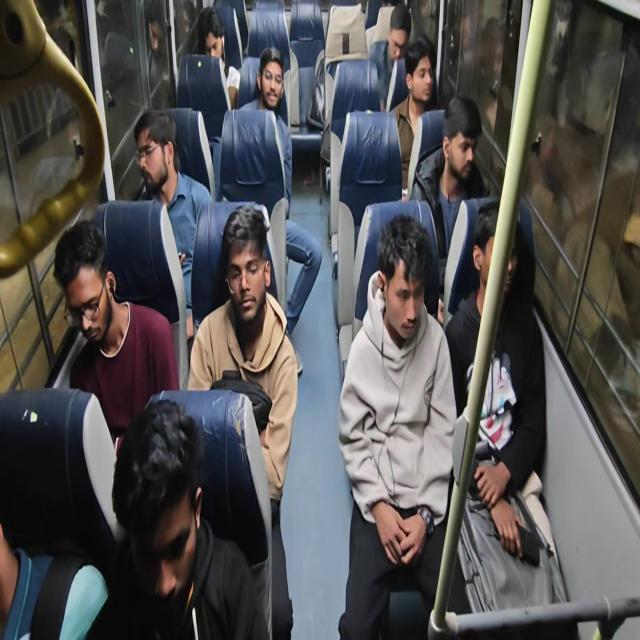person: (338, 213, 466, 638), (187, 204, 298, 637), (444, 200, 556, 612), (108, 397, 271, 639), (52, 219, 180, 452), (239, 46, 322, 338), (133, 108, 213, 340), (409, 94, 488, 259), (388, 35, 438, 199), (195, 6, 241, 110), (370, 4, 412, 111)
